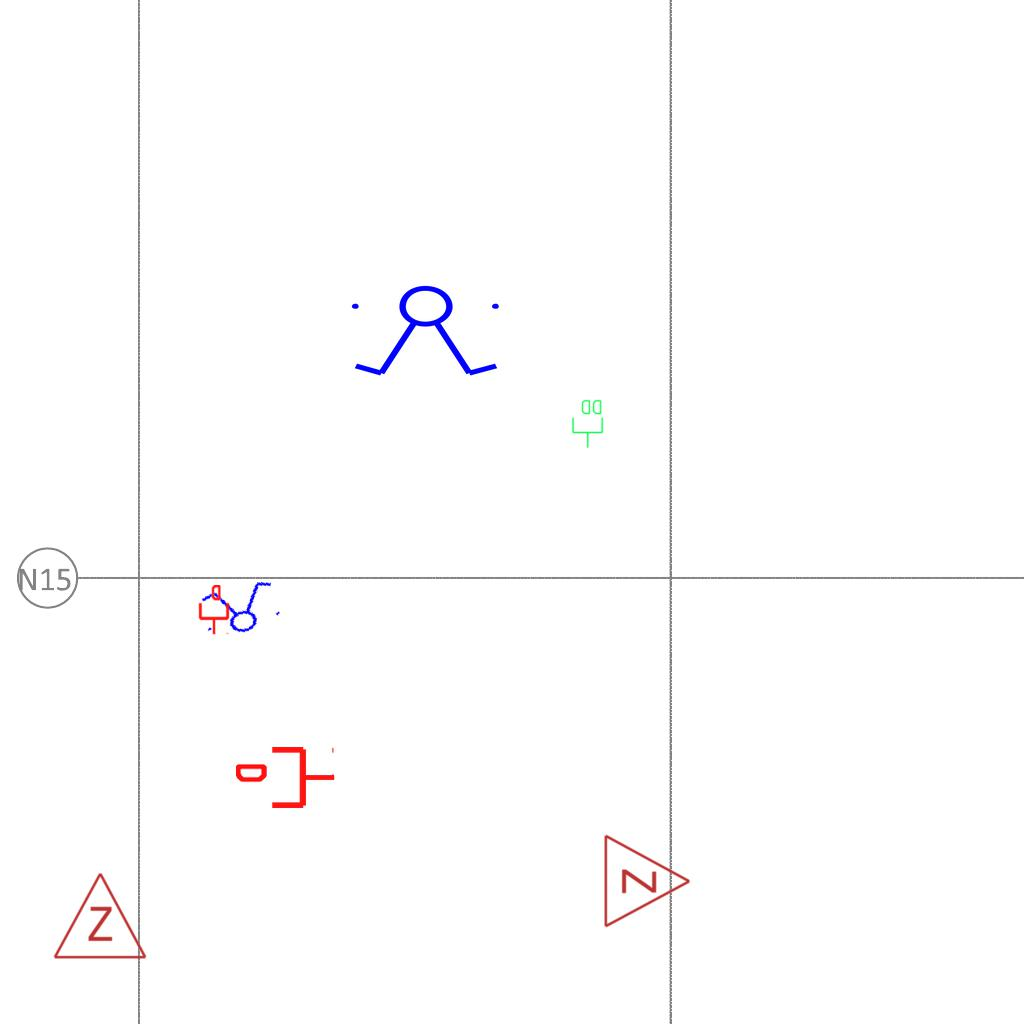Datenanschluss_einfach: (236, 743, 336, 812), (197, 585, 231, 635)
Datenanschluss_zweifach: (571, 398, 605, 449)
Serienschalter: (343, 284, 511, 380), (193, 576, 287, 642)
Zimmersignalleuchte: (50, 866, 148, 966), (597, 831, 697, 929)
